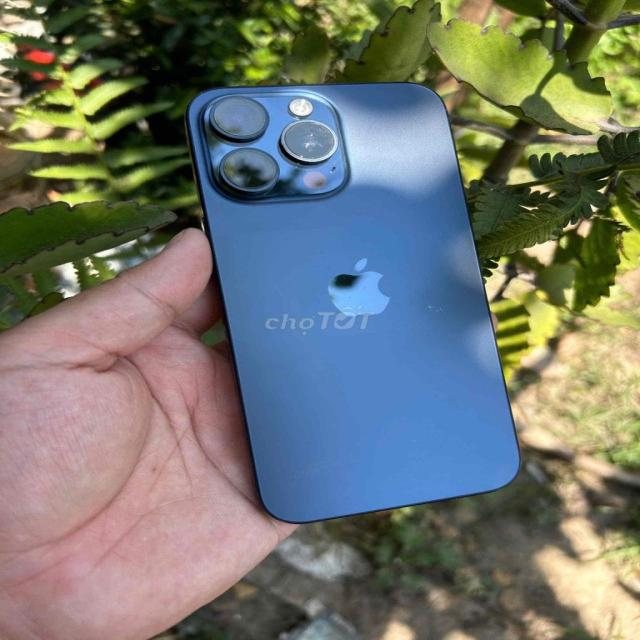gen_15: (168, 73, 547, 533)
